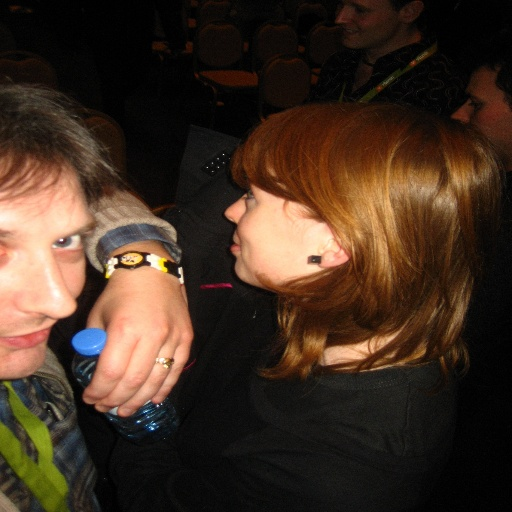hand: (84, 260, 197, 417)
